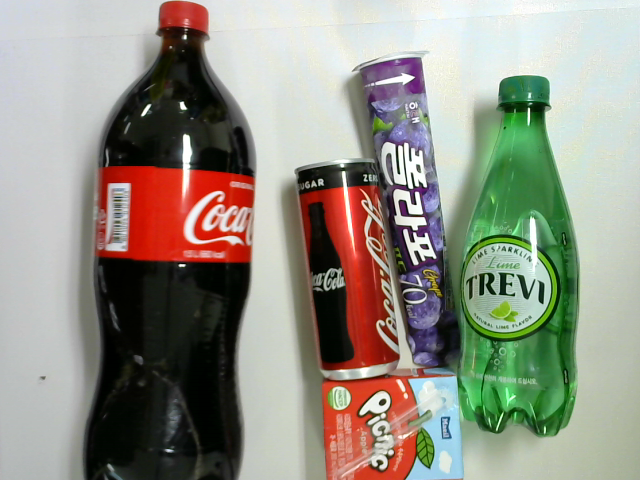Coca_Cola_1.5L: (78, 1, 259, 480)
Coca_Cola_Zero_Can_250ml: (291, 158, 404, 376)
Picnic_Apple: (316, 367, 465, 480)
Polapo_Grape: (349, 47, 466, 367)
Treviraim_500ml: (457, 75, 587, 435)
